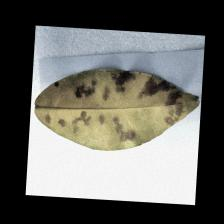black spot: (65, 79, 179, 134)
